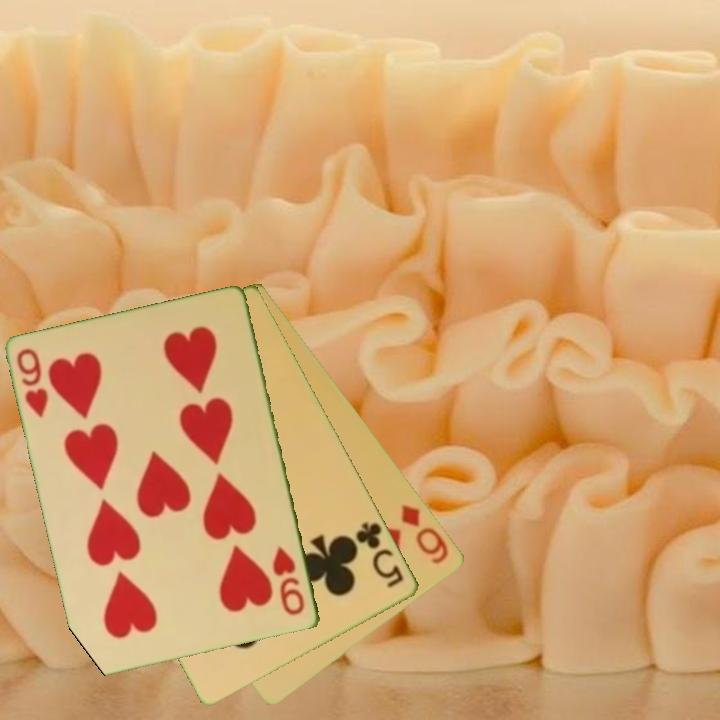5c: (353, 518, 407, 591)
6d: (398, 500, 452, 567)
9h: (269, 543, 308, 619), (13, 345, 52, 421)
